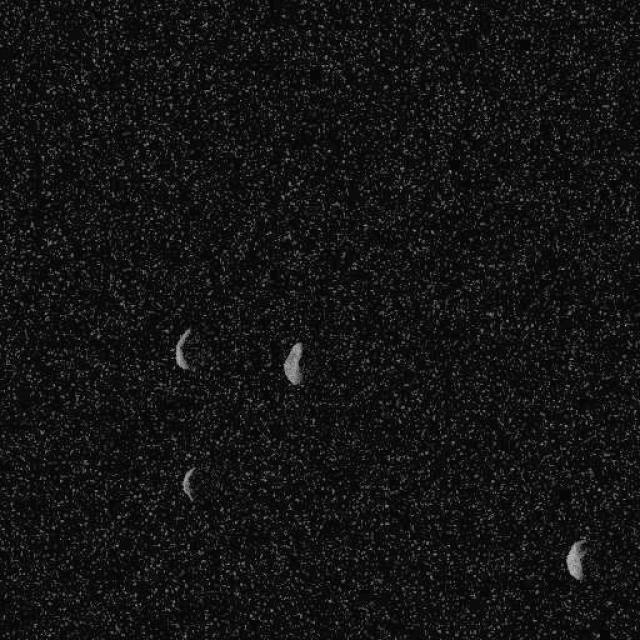D2: (281, 340, 304, 385), (565, 538, 586, 582), (174, 325, 192, 371), (180, 465, 198, 503)
